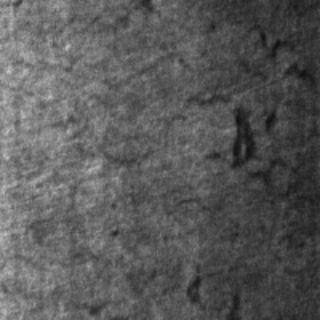crazing: (58, 44, 266, 172), (189, 18, 317, 200)
